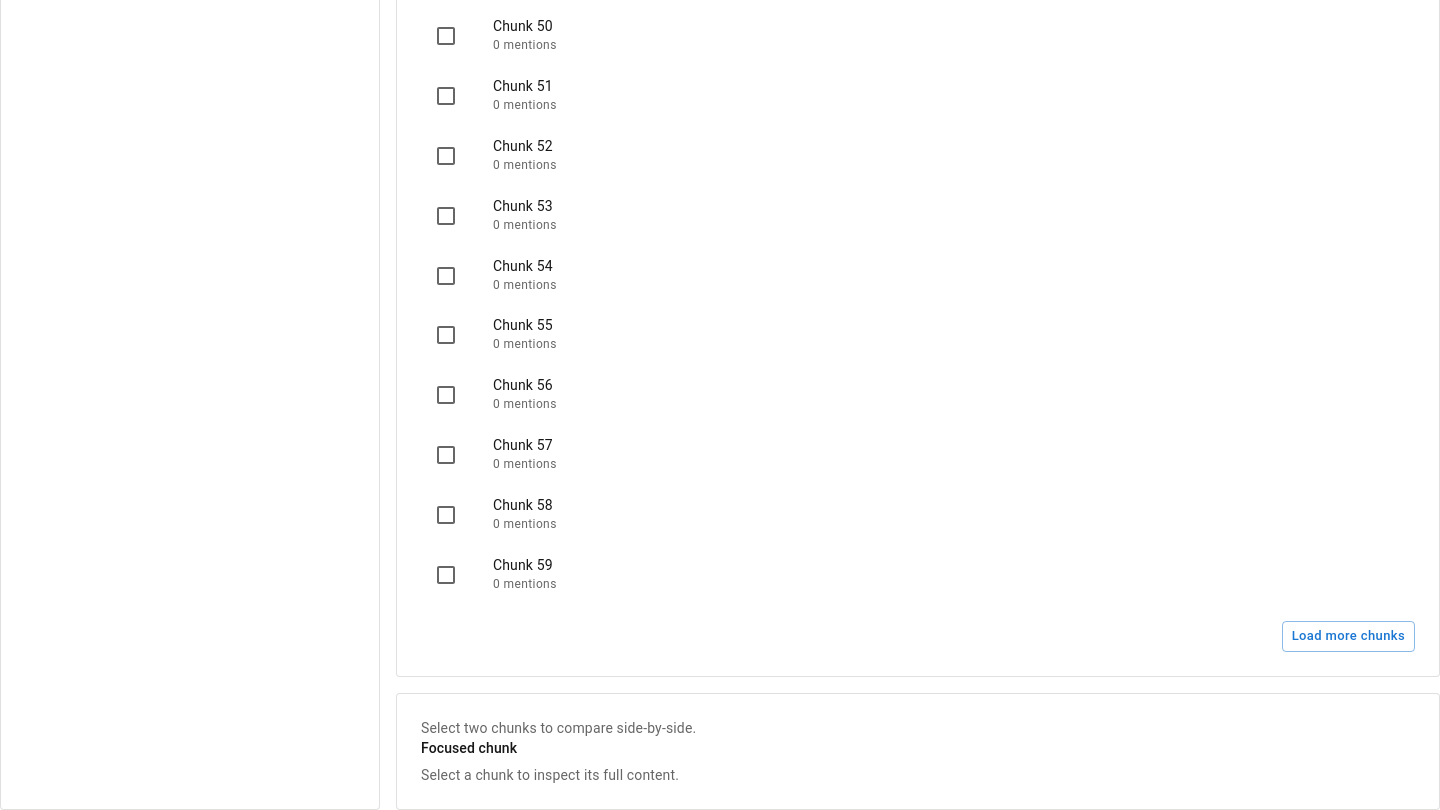
it: EvidencePanel › handles load more chunks
(page scrolled)
Check: the text "Chunk 60" is not shown
Note: Use a low-level click here to avoid userEvent timing flakiness under heavy coverage runs.
Click the button "Load more chunks" at x=1348, y=636, box [1282,621,1415,652]
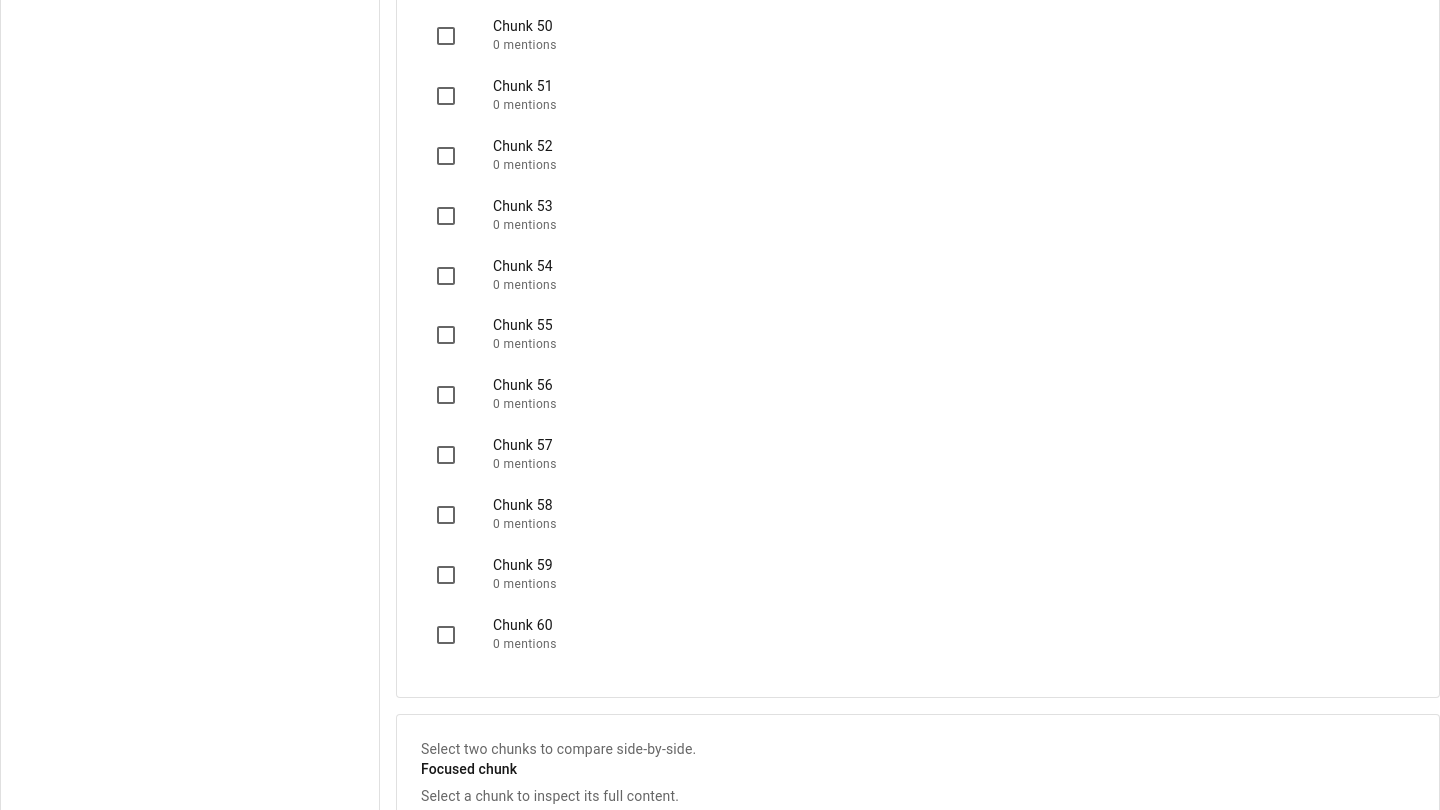
Check: the text "Chunk 60" is shown, box [493,617,553,633]
